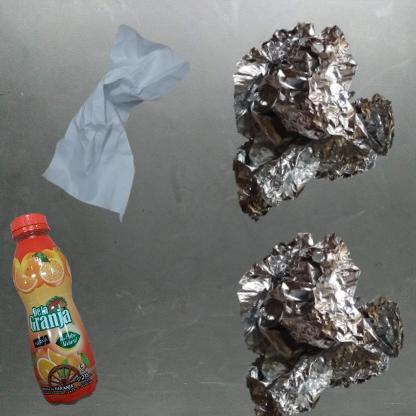aluminio: (213, 10, 410, 229), (213, 213, 416, 416)
botella: (10, 213, 98, 406)
papel: (10, 10, 233, 249)
